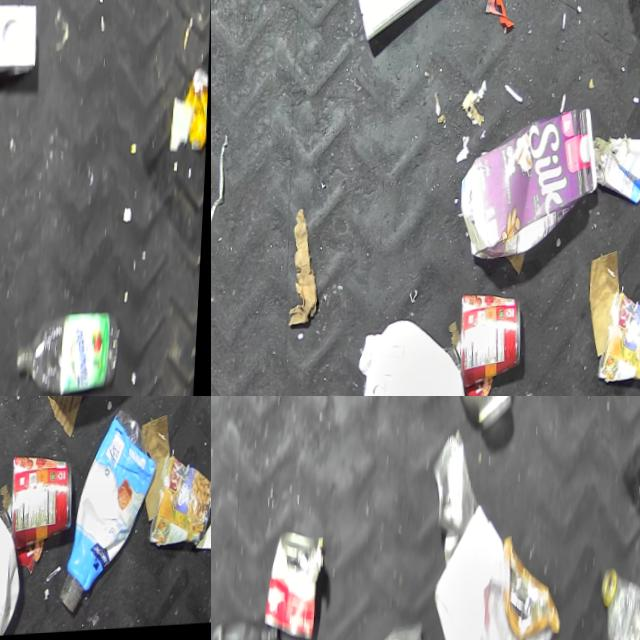can: (476, 531, 569, 640), (8, 452, 84, 562), (263, 526, 324, 640), (460, 290, 529, 390), (599, 290, 640, 387), (182, 70, 211, 155)
milk_jug: (356, 315, 479, 396), (0, 469, 30, 640)
non_white_jug: (460, 110, 604, 266)
plastic_bottle: (18, 310, 124, 396), (424, 396, 520, 438), (597, 568, 640, 640)
